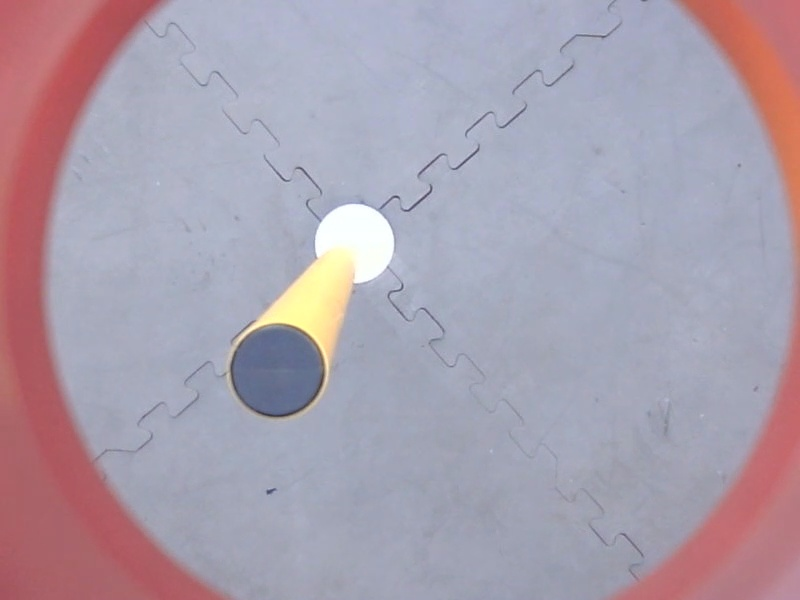tip: (220, 319, 334, 425)
